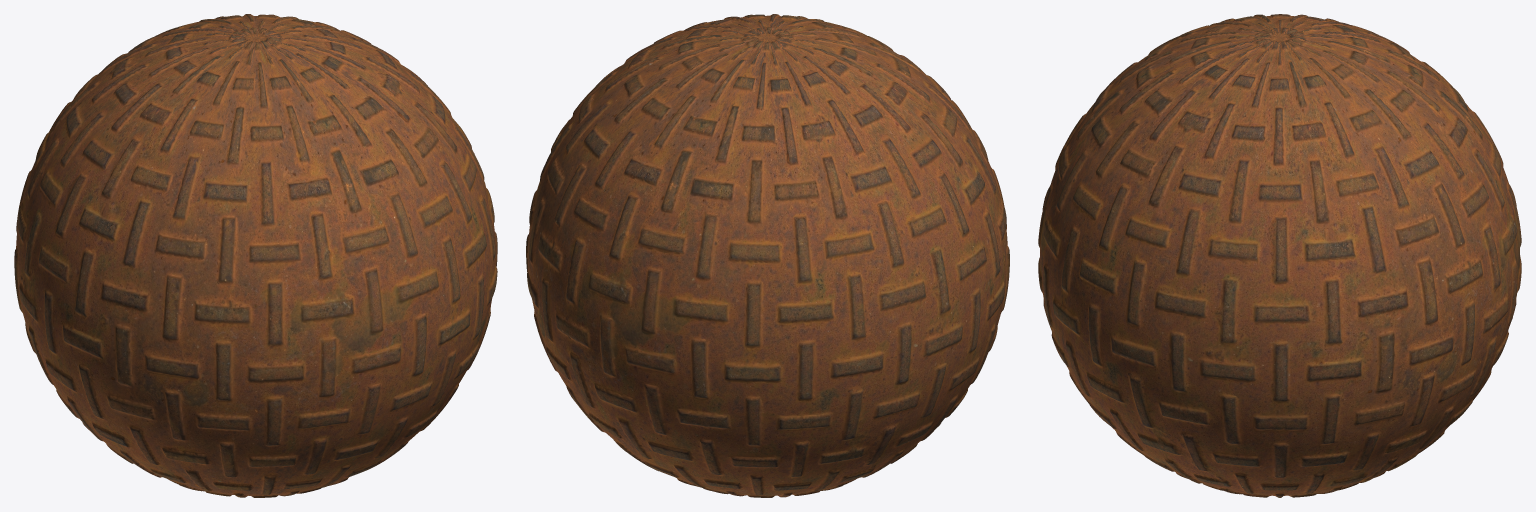
File: metal_grate_rusty_1k.gltf
3 views of the same model, side by side, from view 1: azimuth 30°, elevation 25°; view 2: azimuth 150°, elevation 25°; view 3: azimuth 270°, elevation 25° (orthographic).
Parts seen in each view (by area): view 1: sphere_gltf; view 2: sphere_gltf; view 3: sphere_gltf.
Boxes of the visible parts, left/top/right/bottom form: sphere_gltf: left=14, top=14, right=497, bottom=497; sphere_gltf: left=526, top=14, right=1009, bottom=497; sphere_gltf: left=1038, top=14, right=1521, bottom=497.
Size of the model in its own units: 0.5023 by 0.502 by 0.5014.
1 material, 1 textured.
